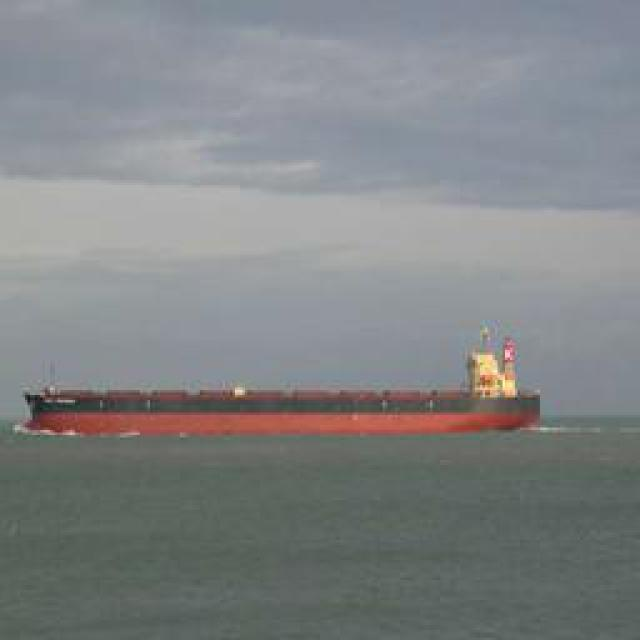Ship: (22, 334, 530, 437)
